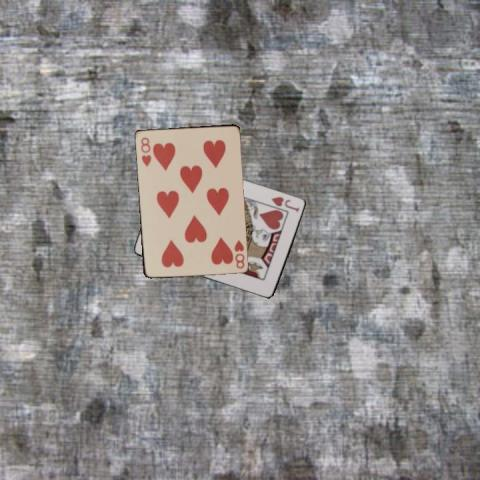8h: (138, 134, 152, 167), (231, 237, 245, 270)
Jh: (269, 194, 301, 214)
